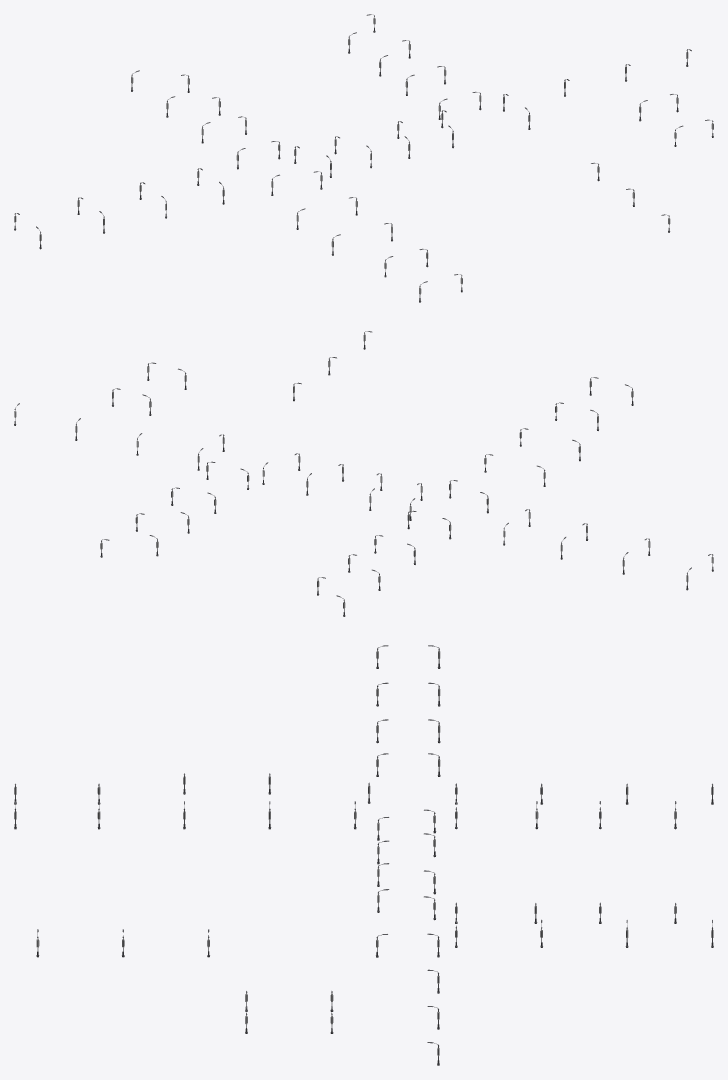
Rendered from StreetLights.glb.
3 renders of one model, top to bottom at view 1: azimuth 30°, elevation 25°; view 2: azimuth 150°, elevation 25°; view 3: azimuth 270°, elevation 25°, orthographic. The views are drawn at different scales.
Bounding box in the file's own units: 199 × 5.4 × 148.
1 material, 1 textured.
